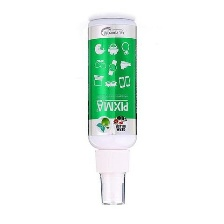cleaning_solution: (83, 12, 140, 212)
